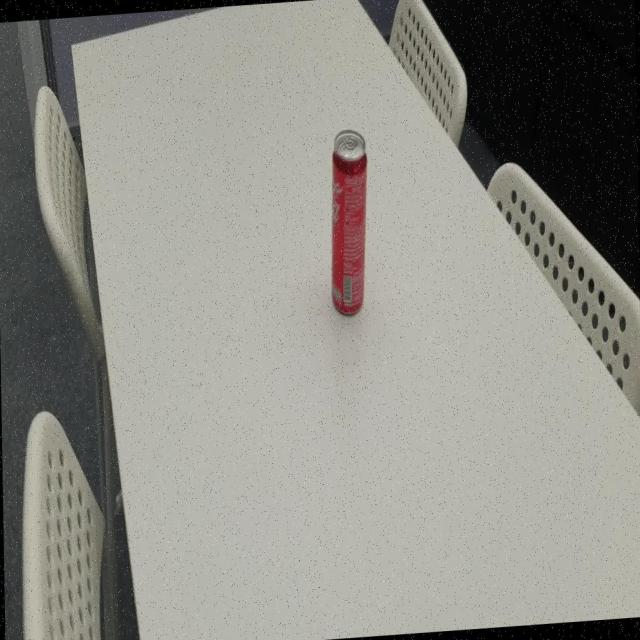coca-cola: (327, 124, 370, 320)
